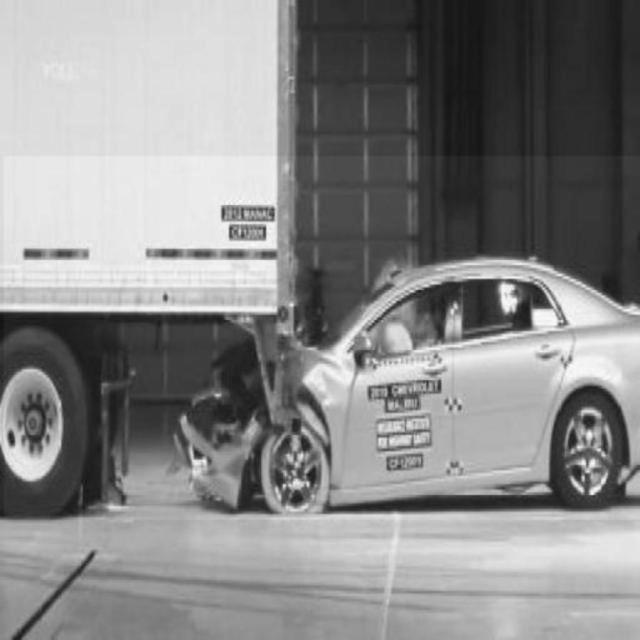accident: (4, 156, 640, 520)
